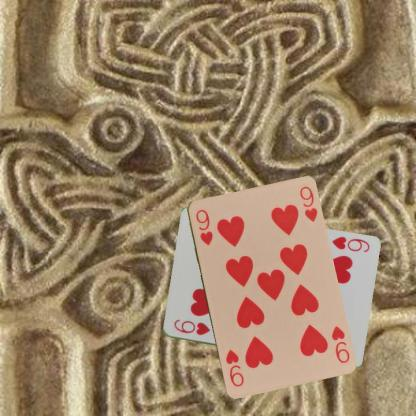6h: (329, 234, 371, 254), (171, 316, 211, 336)
9h: (328, 323, 351, 365), (192, 206, 214, 247)
